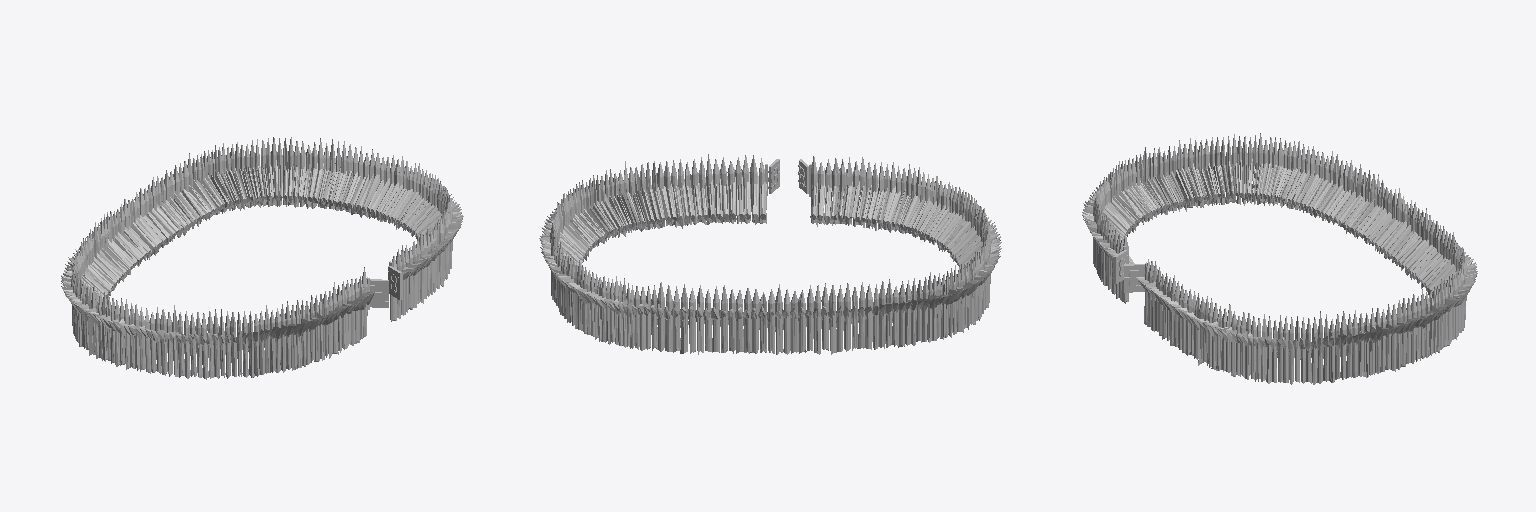
The model's file is EnemyStockable.obj.
3 views of the same model, side by side, from view 1: azimuth 30°, elevation 25°; view 2: azimuth 150°, elevation 25°; view 3: azimuth 270°, elevation 25° (orthographic).
Parts seen in each view (by area): view 1: Cylinder_Cylinder.004, Cylinder.004_Cylinder.002, Cube.008_Cube.010; view 2: Cylinder_Cylinder.004, Cylinder.004_Cylinder.002, Cube.008_Cube.010; view 3: Cylinder_Cylinder.004, Cylinder.004_Cylinder.002, Cube.008_Cube.010.
Part boxes in pixels (left/top/right/bottom): Cylinder_Cylinder.004: left=71, top=137, right=452, bottom=379; Cylinder.004_Cylinder.002: left=61, top=151, right=463, bottom=355; Cube.008_Cube.010: left=370, top=266, right=402, bottom=307; Cylinder_Cylinder.004: left=550, top=154, right=991, bottom=354; Cylinder.004_Cylinder.002: left=539, top=167, right=1001, bottom=331; Cube.008_Cube.010: left=768, top=159, right=808, bottom=193; Cylinder_Cylinder.004: left=1093, top=133, right=1467, bottom=384; Cylinder.004_Cylinder.002: left=1082, top=148, right=1477, bottom=359; Cube.008_Cube.010: left=1112, top=250, right=1144, bottom=292.
Size of the model in its own units: 84.1 by 15.99 by 73.23.